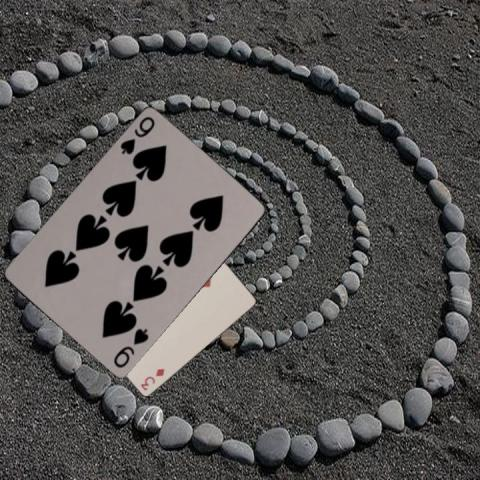3d: (137, 365, 166, 392)
9s: (110, 326, 151, 370), (116, 113, 156, 157)
